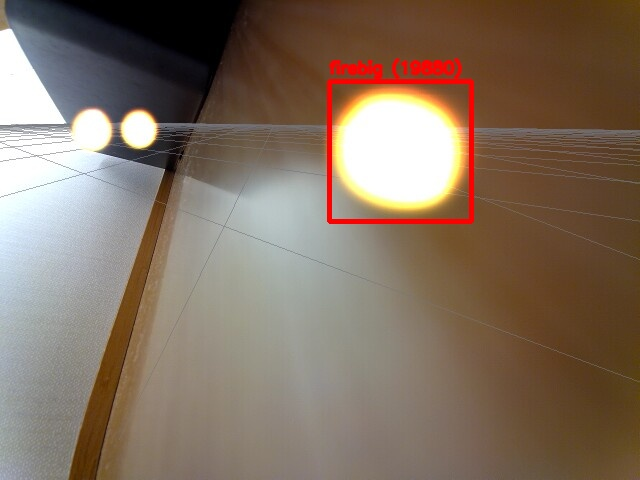firebig: (329, 81, 471, 221)
